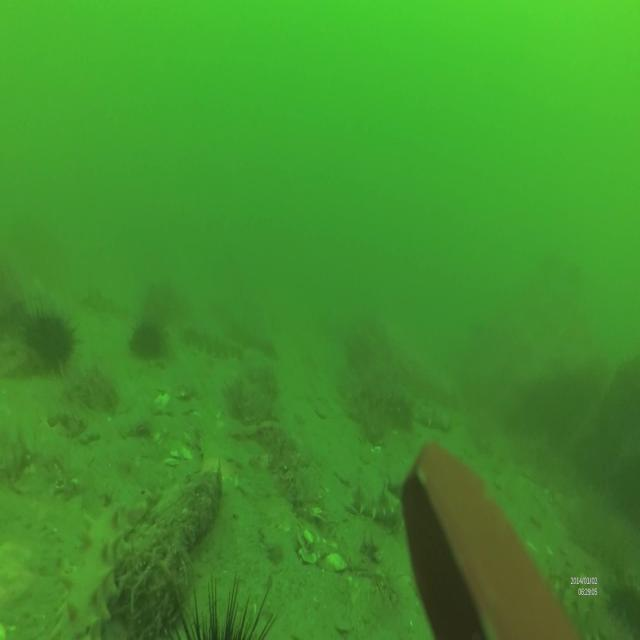echinus: (161, 576, 282, 640), (24, 301, 78, 371), (127, 317, 164, 361)
holothurian: (54, 496, 148, 634), (185, 317, 247, 363), (346, 478, 398, 532), (412, 394, 454, 433)
